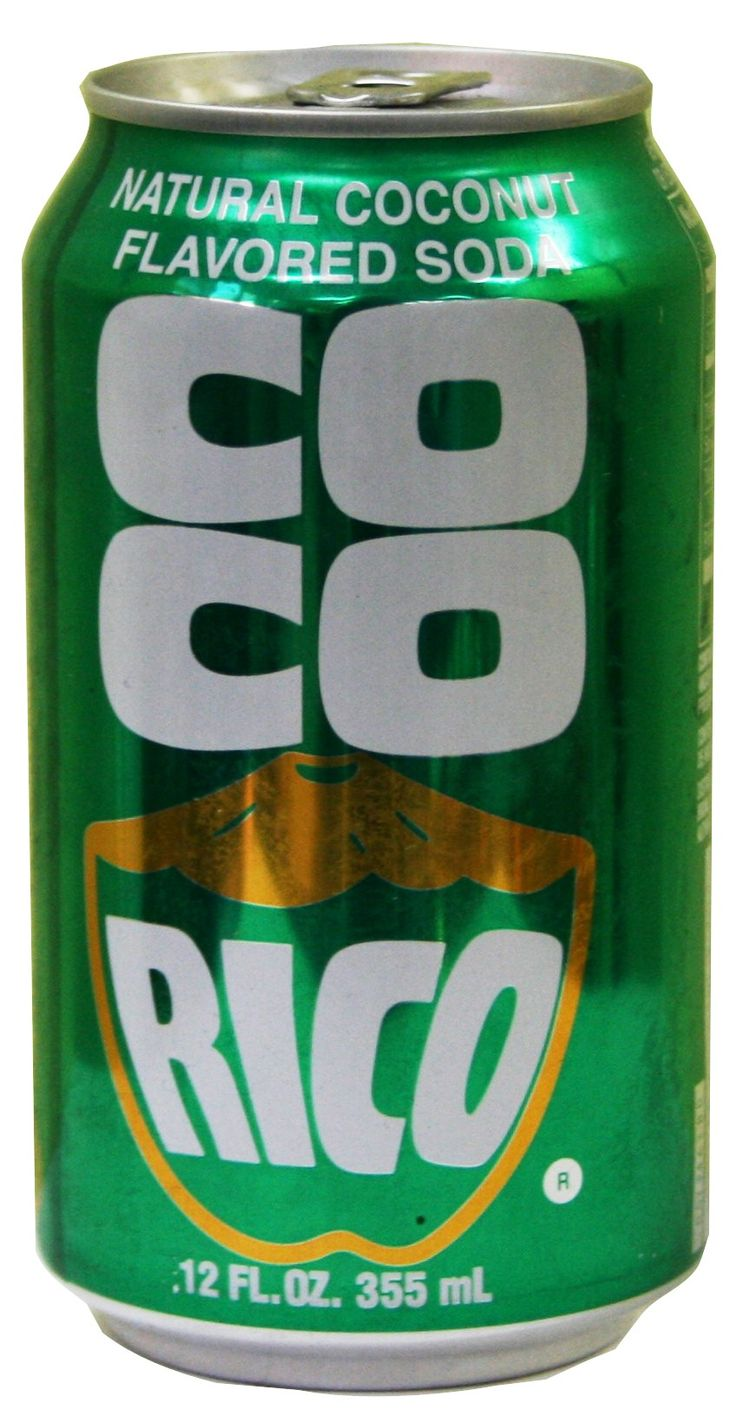can: (10, 21, 735, 1402)
